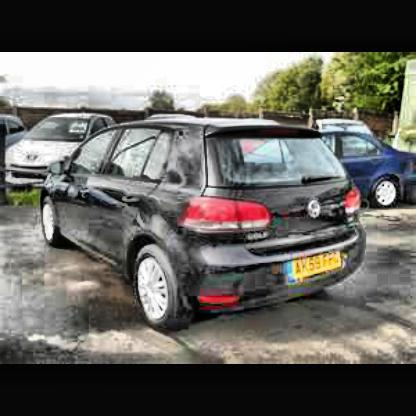Volkswagen Golf Hatchback 2012: (37, 117, 369, 348)
